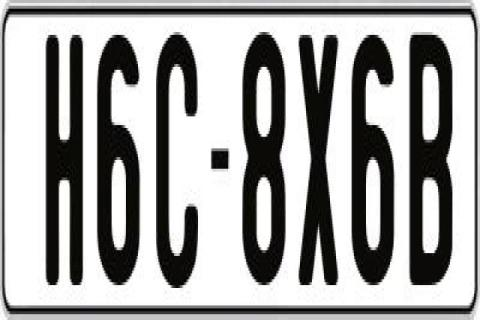0: (96, 32, 146, 300), (350, 26, 398, 288), (242, 27, 284, 280)
B: (408, 32, 452, 291)
C: (156, 29, 198, 299)
H: (43, 35, 88, 285)
X: (298, 32, 344, 300)
